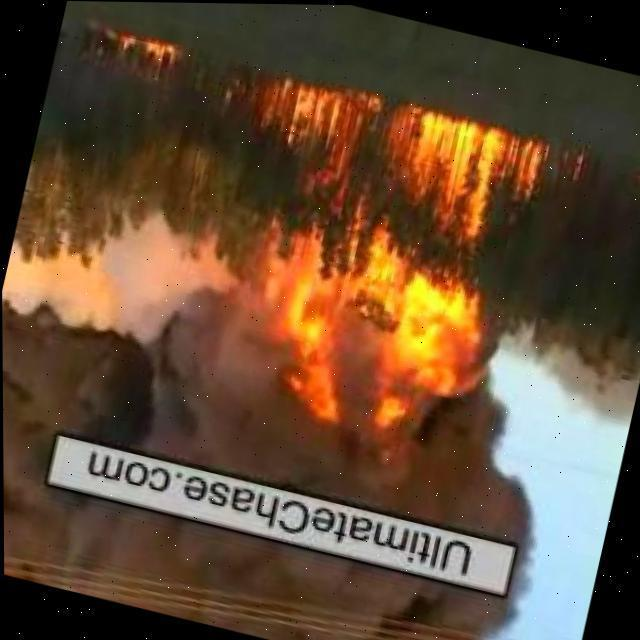fire: (173, 64, 542, 454), (88, 22, 186, 89)
